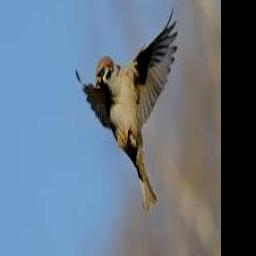Sparrow: (75, 6, 176, 212)
